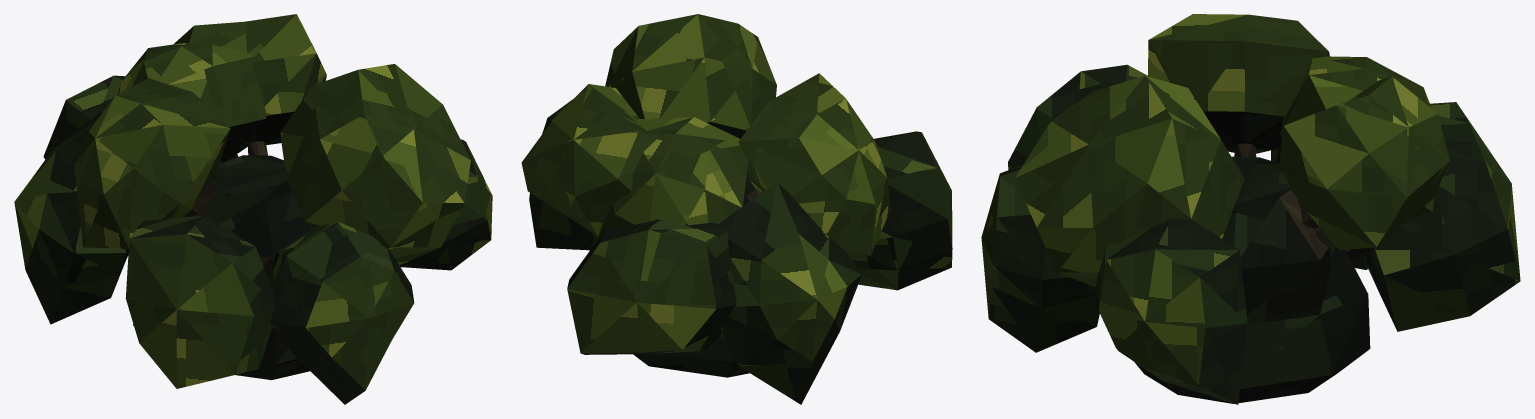
File: forest_bush_low.glb
3 views of the same model, side by side, from view 1: azimuth 30°, elevation 25°; view 2: azimuth 150°, elevation 25°; view 3: azimuth 270°, elevation 25° (orthographic). The views are drawn at different scales.
Parts seen in each view (by area): view 1: ForestBush; view 2: ForestBush; view 3: ForestBush.
Part boxes in pixels (x1,y1,x2,y2): ForestBush: (14,14,492,404); ForestBush: (521,14,952,404); ForestBush: (981,14,1520,404).
Size of what is drawn, in the model's own units: 1.85 by 1.3 by 2.
1 material, 1 textured.
